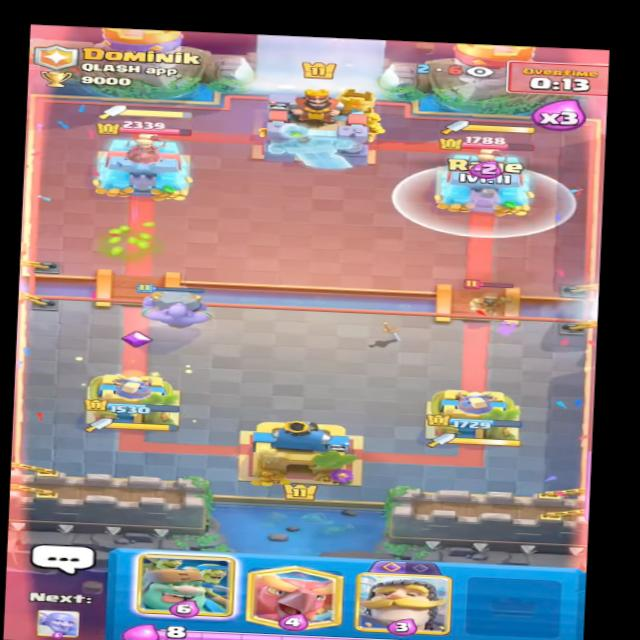Wizard: (458, 277, 530, 318)
